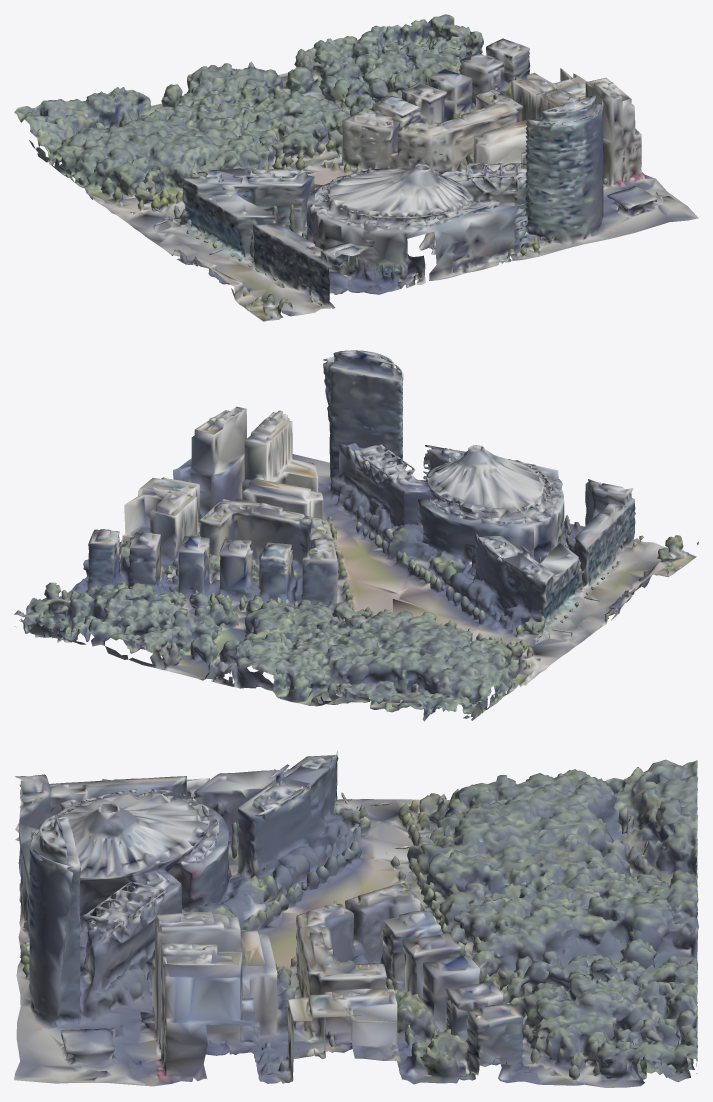
File: tile-3894_58189.glb
3 renders of one model, top to bottom at view 1: azimuth 30°, elevation 25°; view 2: azimuth 150°, elevation 25°; view 3: azimuth 270°, elevation 25°, orthographic. The views are drawn at different scales.
Visible parts, largest first — view 1: world; view 2: world; view 3: world.
Part boxes in pixels (left/top/right/bottom): world: left=14, top=14, right=698, bottom=321; world: left=14, top=350, right=698, bottom=721; world: left=14, top=751, right=698, bottom=1087.
Bounding box in the file's own units: 366 × 115 × 365.
